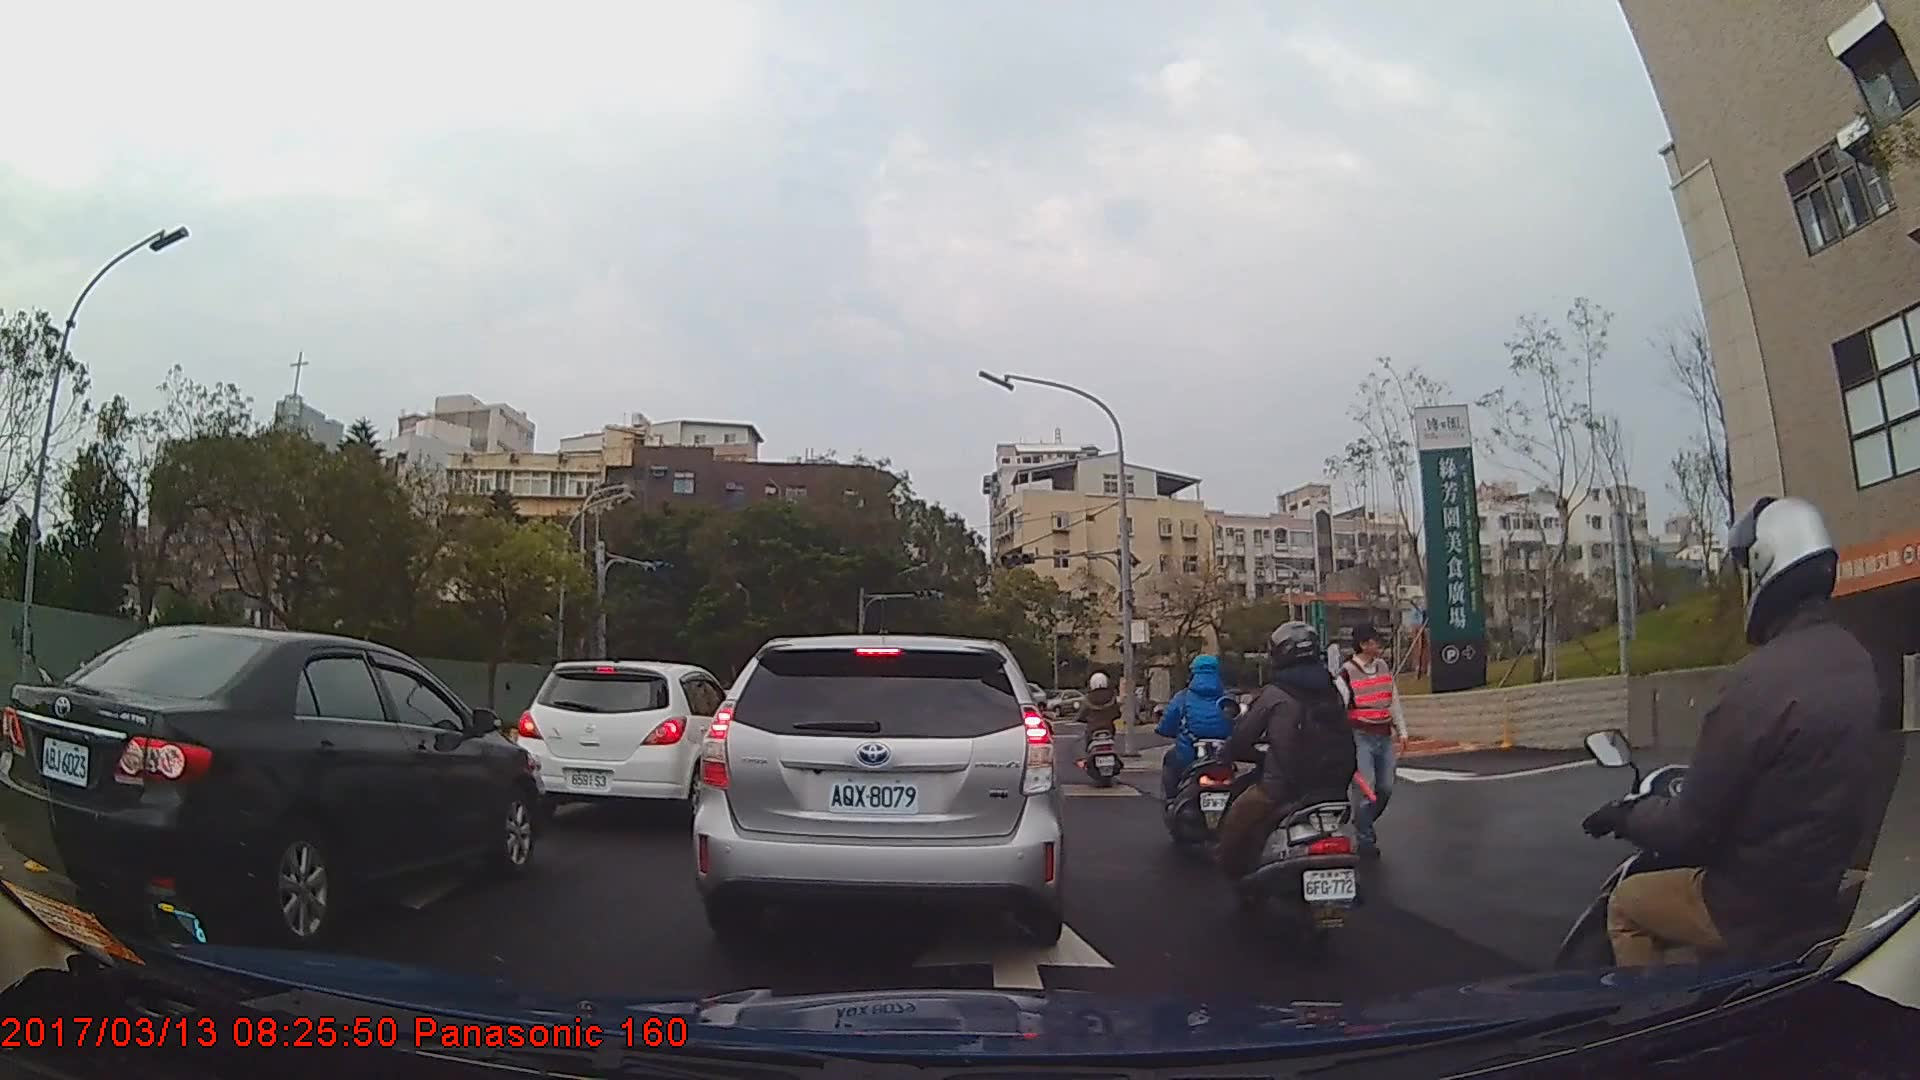pedestrian: (1333, 617, 1412, 863)
rider: (1540, 495, 1920, 1080), (1213, 617, 1368, 959), (1154, 652, 1241, 860), (1074, 670, 1125, 788)
vehicle: (12, 620, 544, 947), (691, 632, 1067, 950), (511, 658, 735, 825), (1046, 687, 1086, 716)
